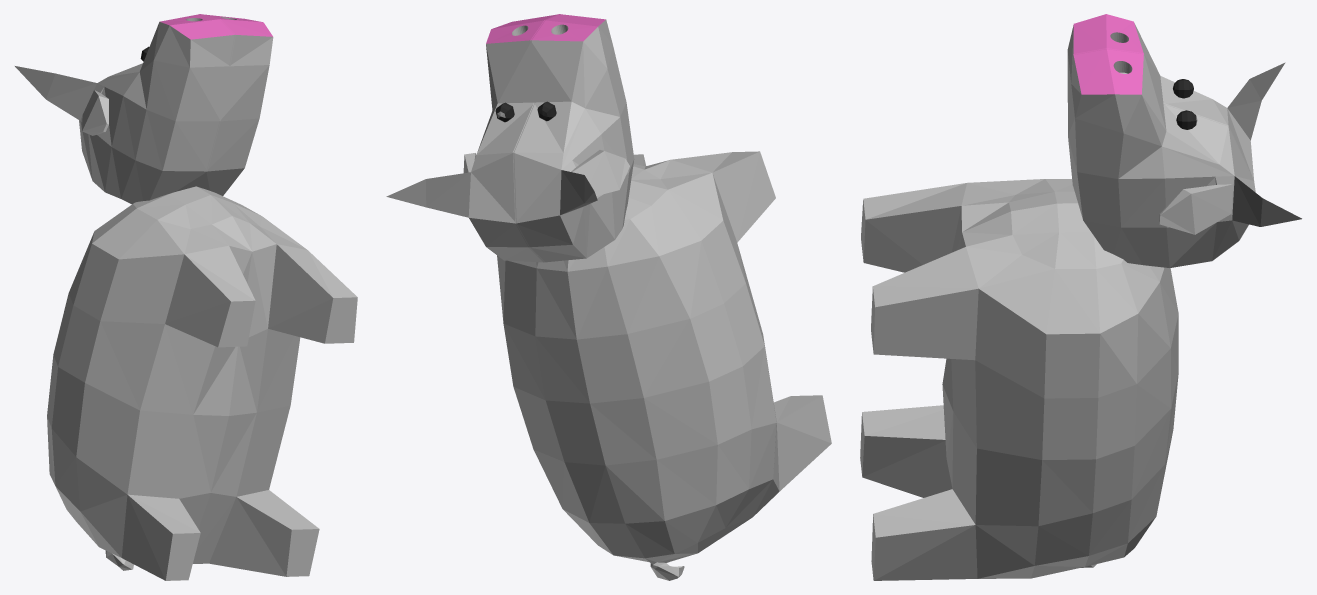
File: cow_joined.fbx
The picture shows the model from 3 angles, left to right: view 1: azimuth 30°, elevation 25°; view 2: azimuth 150°, elevation 25°; view 3: azimuth 270°, elevation 25°; orthographic projection. The views are drawn at different scales.
Visible parts, largest first — view 1: Cube; view 2: Cube; view 3: Cube.
Boxes of the visible parts, x1=… form: Cube: x1=15, y1=14, x2=357, y2=580; Cube: x1=386, y1=14, x2=831, y2=580; Cube: x1=860, y1=14, x2=1301, y2=580.
Size of the model in its own units: 127 by 257 by 176.
